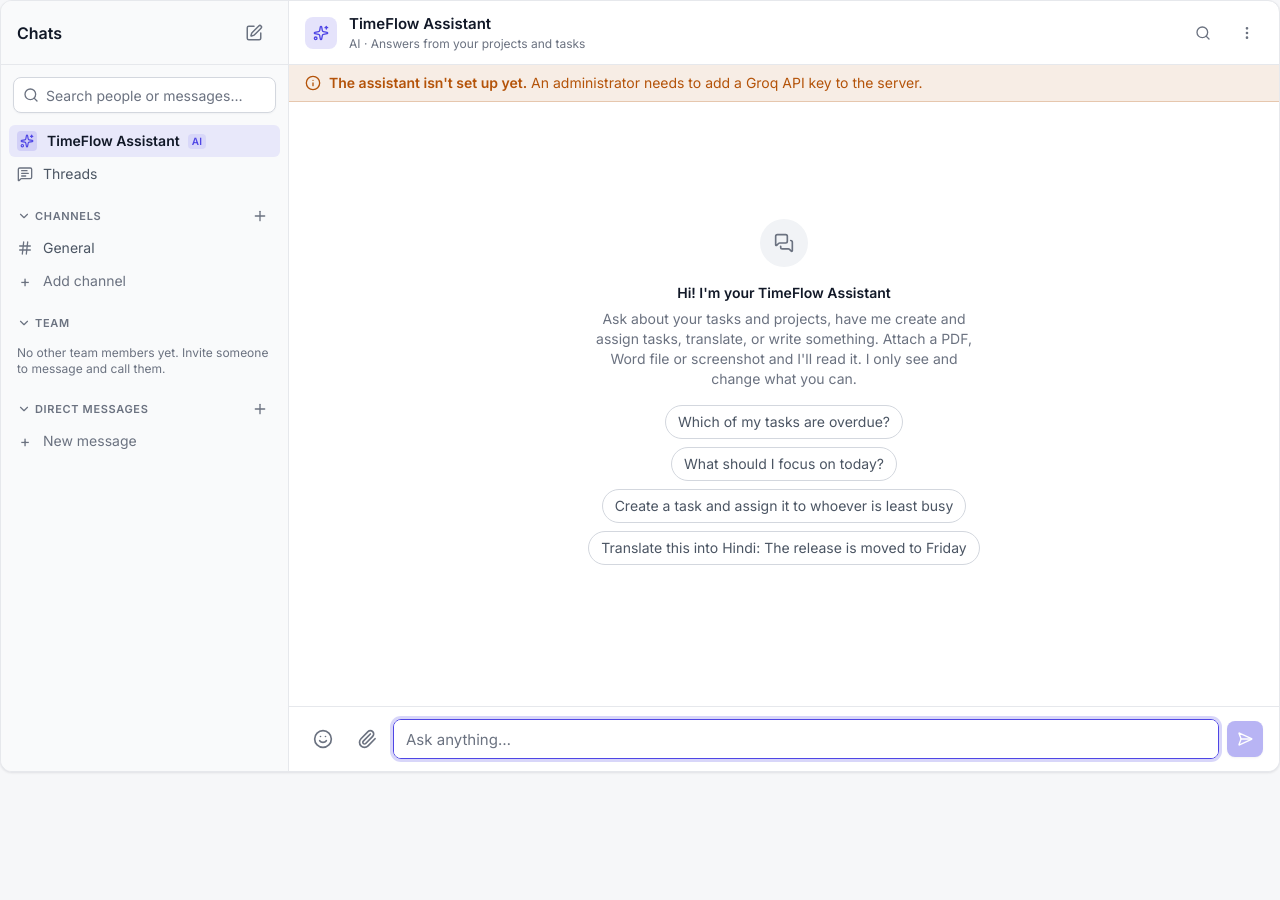
TimeFlow Assistant › marks the question failed with a reason, and retries it
Check: the text "The assistant isn't set up yet." is shown, box [329,74,527,91]
Click the button "What should I focus on today?" at (784,464), box [671,447,897,481]
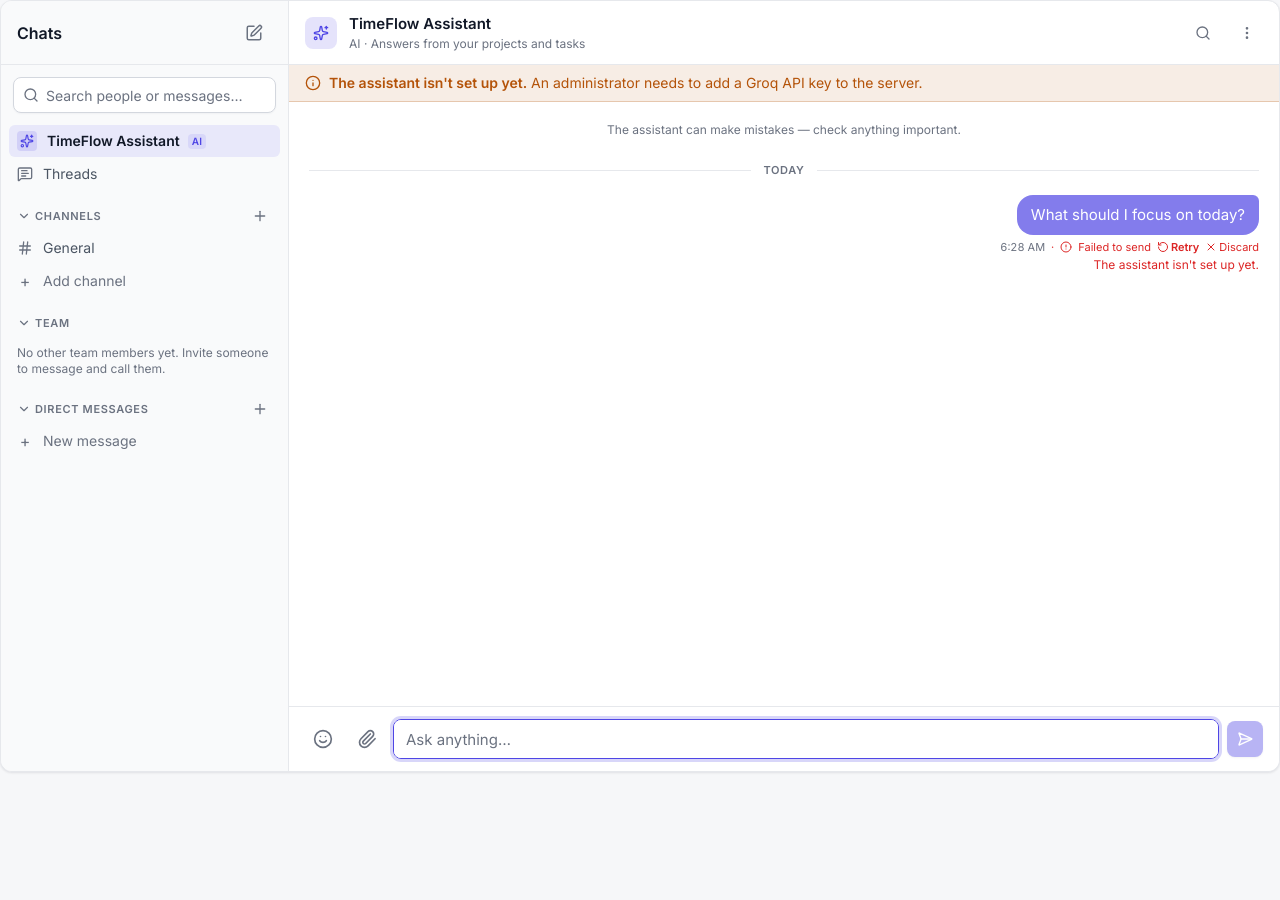
Check: the text "The assistant isn't set up yet." is shown 2 times, box [329,74,527,91]; [1094,257,1259,273]
Check: the text "Failed to send" is shown, box [1078,239,1151,255]
Click the button "Retry" at (1178,247), box [1157,239,1199,255]
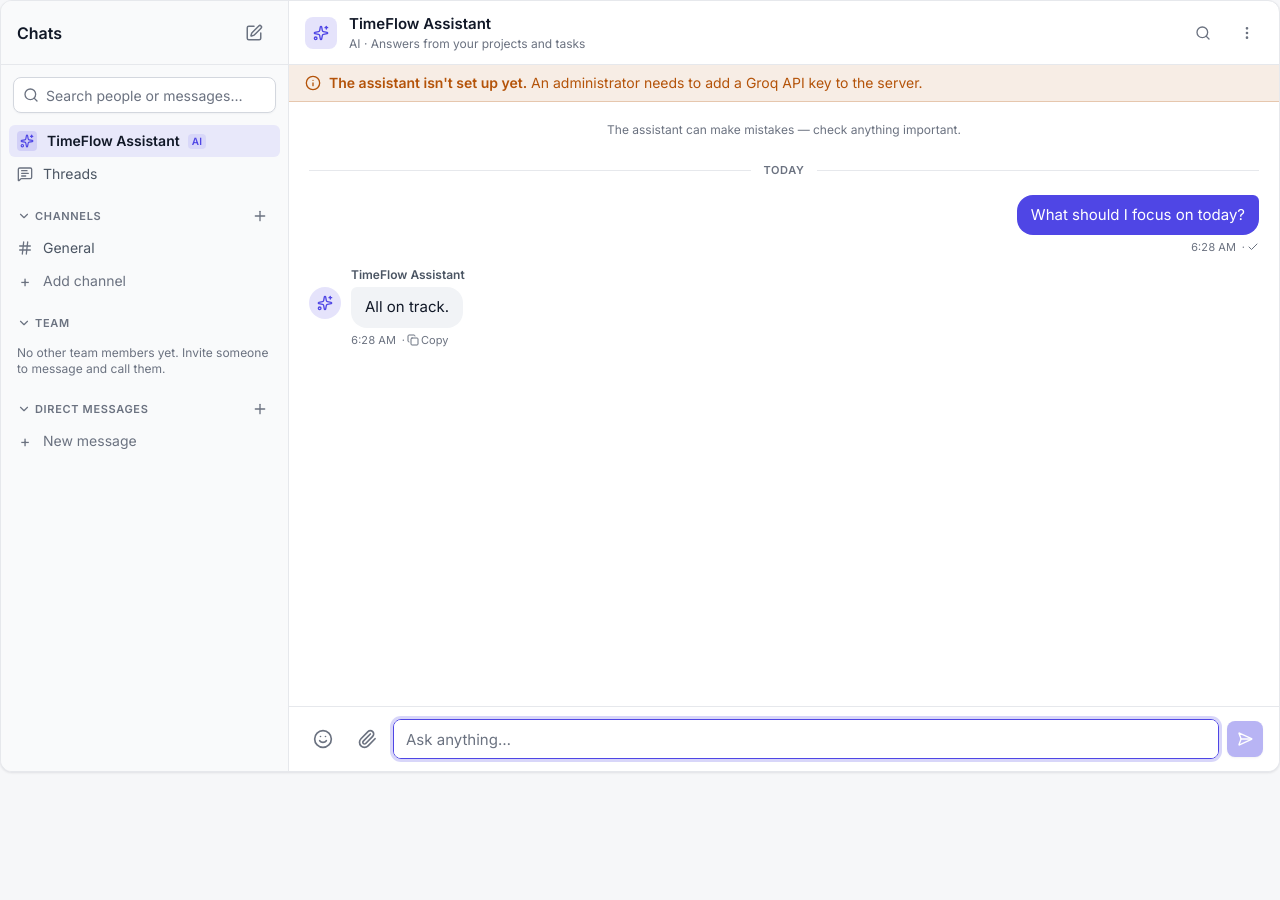
Check: the text "All on track." is shown, box [365,295,449,320]
Check: the text "Failed to send" is gone
